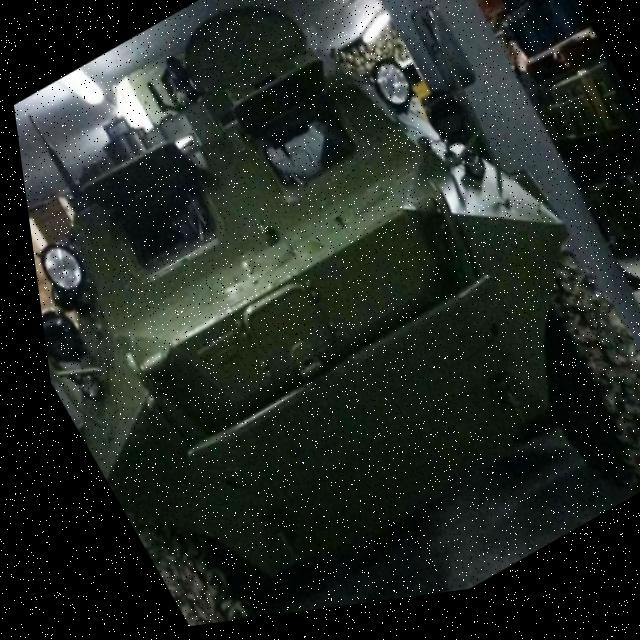MIL_APC: (2, 0, 640, 640)
